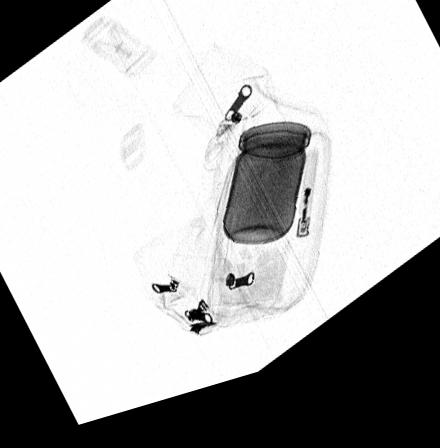Lighter: (296, 168, 319, 255)
